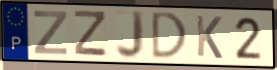2: (233, 15, 264, 61)
D: (150, 10, 189, 61)
J: (114, 9, 146, 61)
K: (194, 14, 224, 61)
Z: (32, 9, 69, 57), (73, 9, 108, 59)
